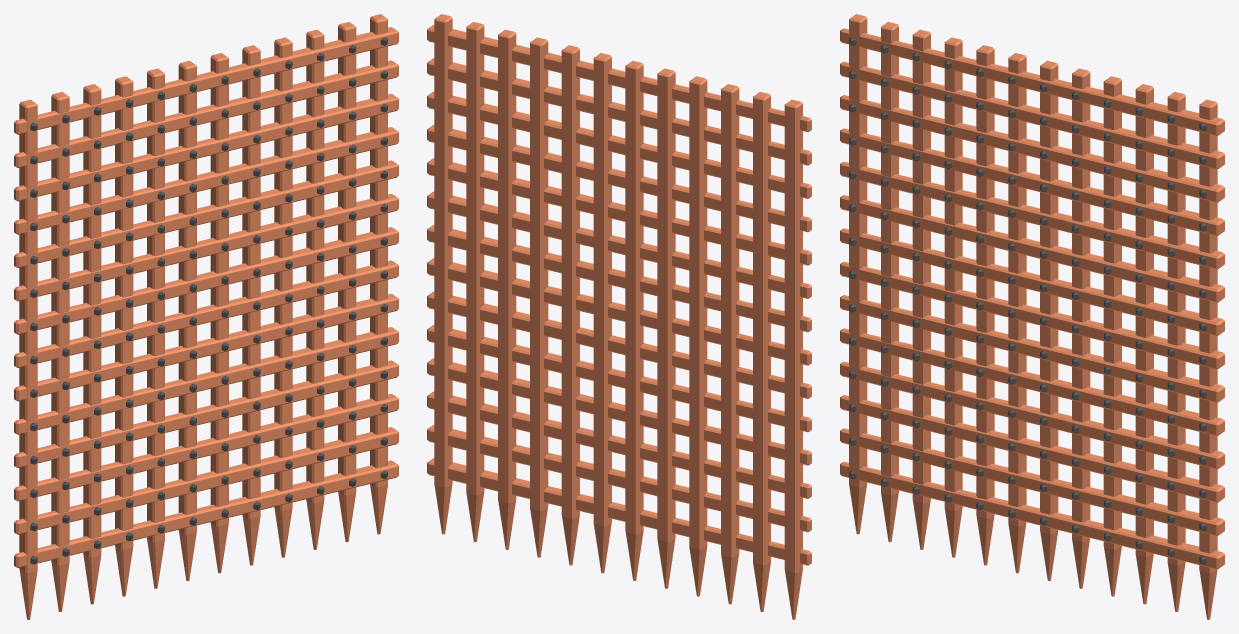
The model's file is Portcullis.fbx.
3 views of the same model, side by side, from view 1: azimuth 30°, elevation 25°; view 2: azimuth 150°, elevation 25°; view 3: azimuth 330°, elevation 25° (orthographic).
Visible parts, largest first — view 1: Portcullis Horizontal Bars, Portcullis Vertical Bars, Portcullis Bolts; view 2: Portcullis Vertical Bars, Portcullis Horizontal Bars; view 3: Portcullis Horizontal Bars, Portcullis Vertical Bars, Portcullis Bolts.
Part boxes in pixels (bbox=[...]): Portcullis Horizontal Bars: bbox=[14, 27, 398, 567]; Portcullis Vertical Bars: bbox=[19, 14, 387, 619]; Portcullis Bolts: bbox=[30, 37, 387, 564]; Portcullis Vertical Bars: bbox=[434, 14, 802, 619]; Portcullis Horizontal Bars: bbox=[427, 25, 811, 565]; Portcullis Horizontal Bars: bbox=[840, 28, 1224, 569]; Portcullis Vertical Bars: bbox=[849, 14, 1217, 619]; Portcullis Bolts: bbox=[849, 37, 1206, 564].
Bounding box in the file's own units: 598 × 775 × 30.51.
